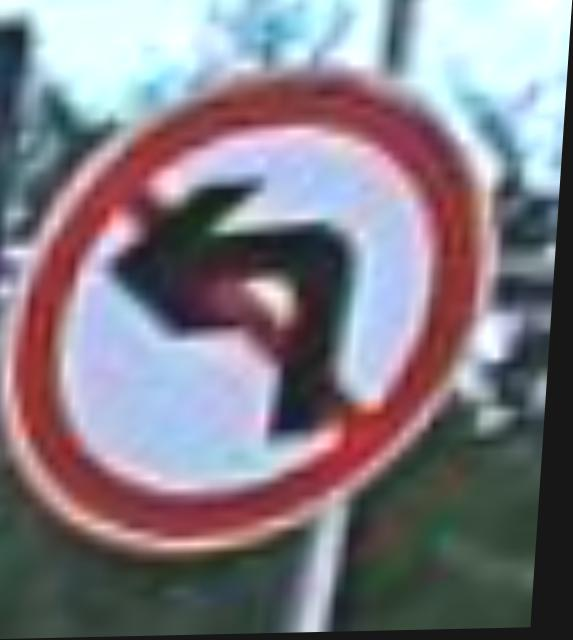not_turn_left: (0, 69, 494, 532)
